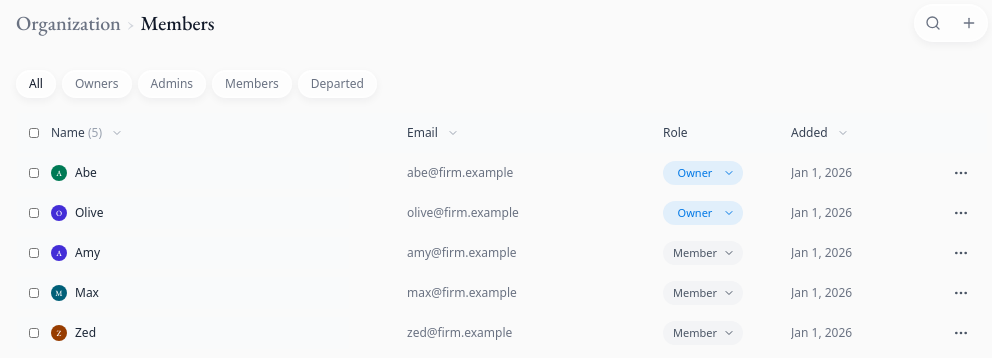
Test: OrganizationMembers › the role tabs › says so when nobody holds the role
Expected: the text "Olive" is shown, [75, 205, 103, 221]
Click the button "Admins" at (172, 84), box [138, 70, 206, 98]
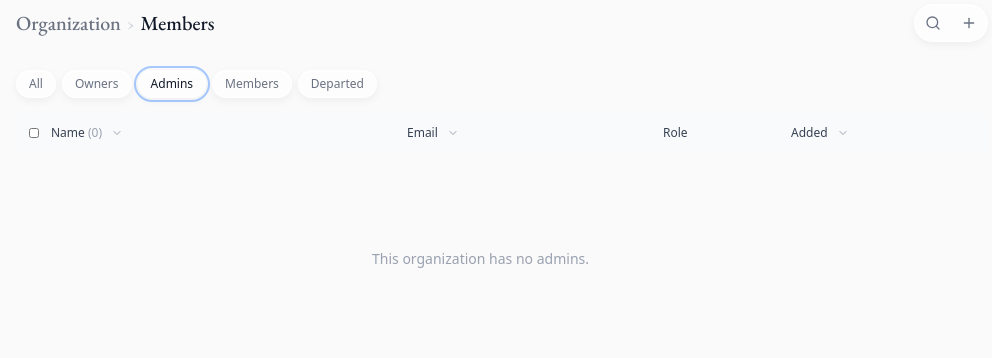
Expected: the text "(0)" is shown, [88, 124, 102, 141]
Result: the text "This organization has no admins." is shown at [372, 249, 589, 269]
